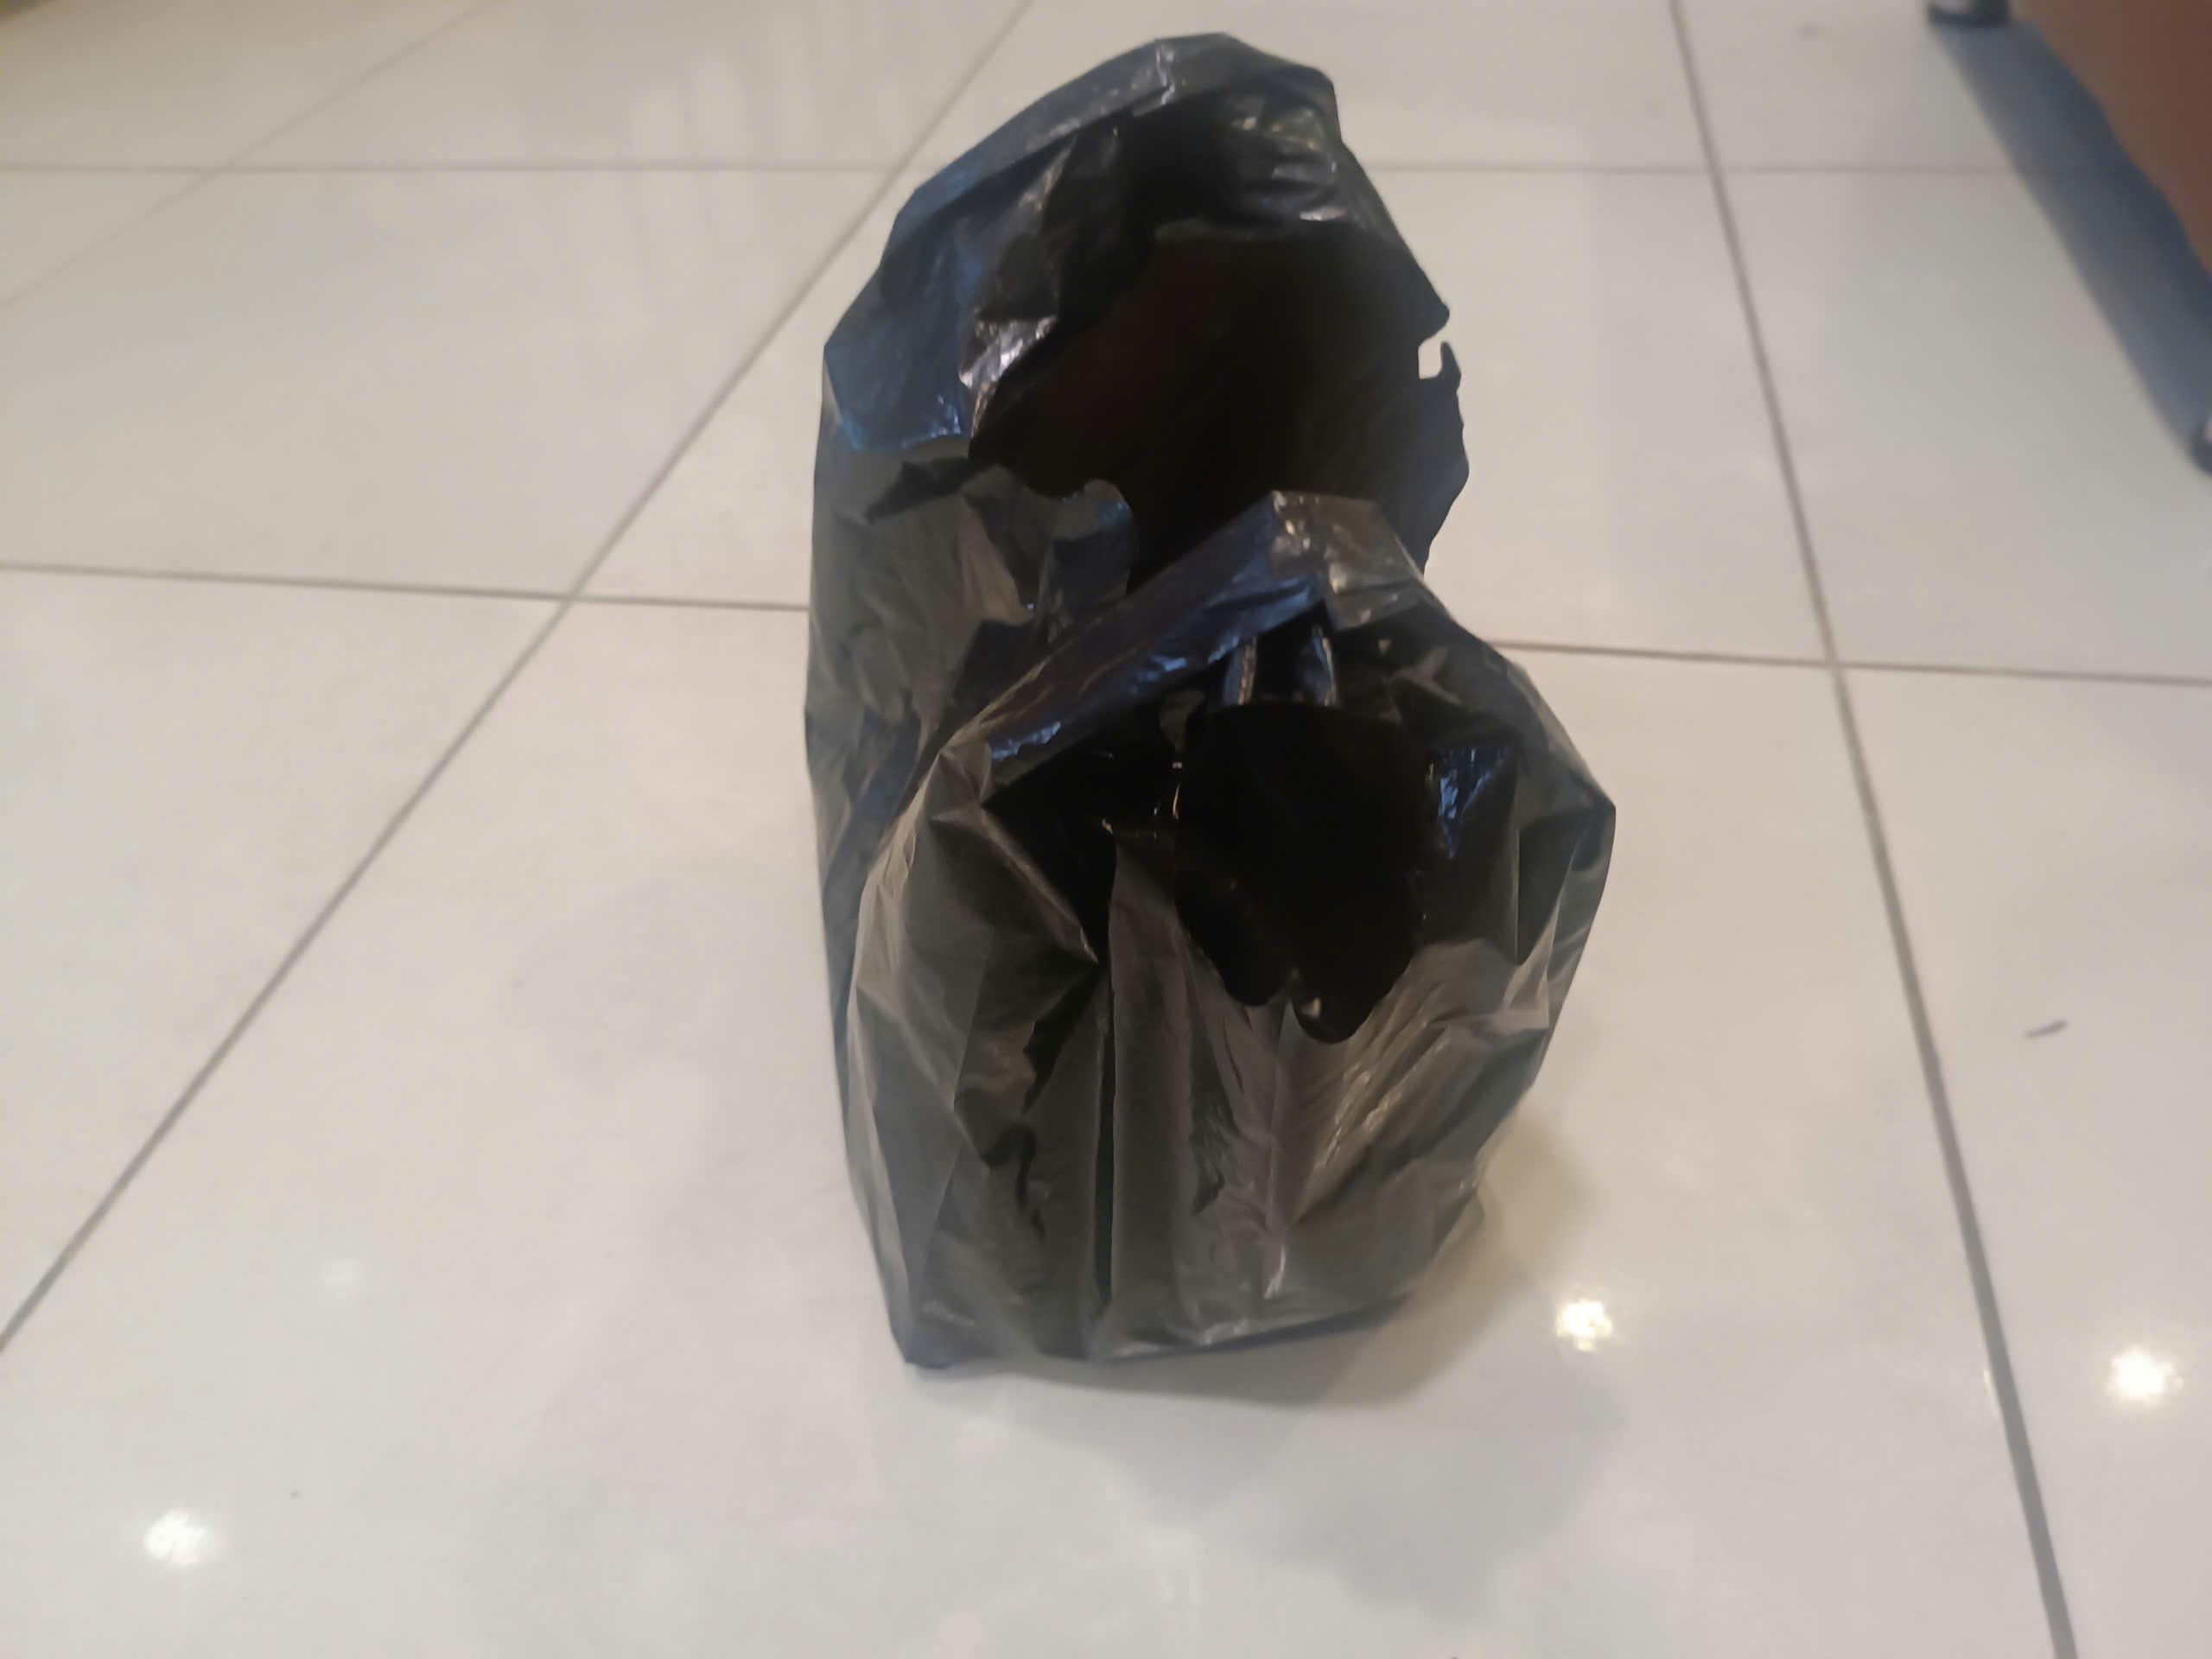Vo co: (806, 30, 1627, 1377)
